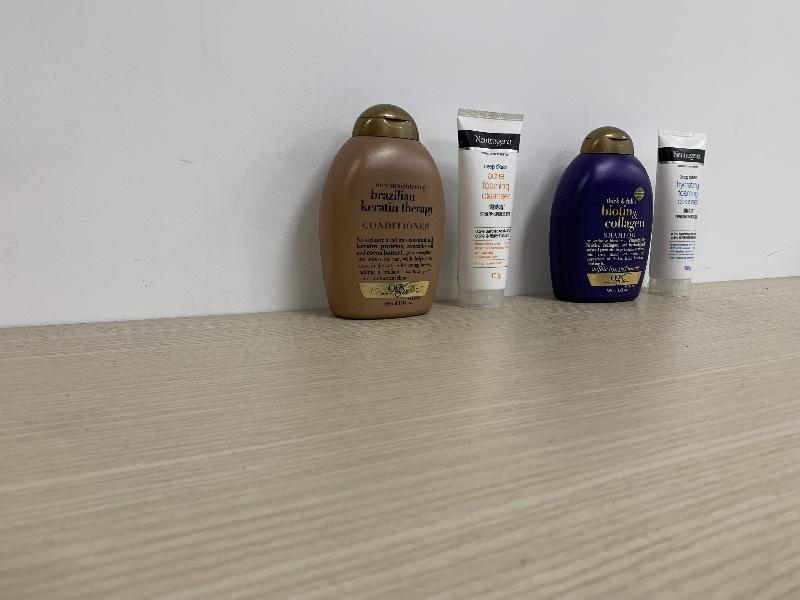AcneFoamingCleanser: (457, 107, 524, 311)
BiotinCollagen_Shampoo: (548, 125, 654, 304)
BrazilianKerationTherapy_Conditioner: (319, 104, 445, 318)
HydratingFoamingCleanser: (653, 129, 707, 298)
